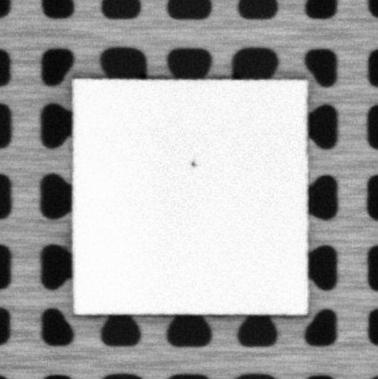DIE_INK: (189, 159, 197, 168)
